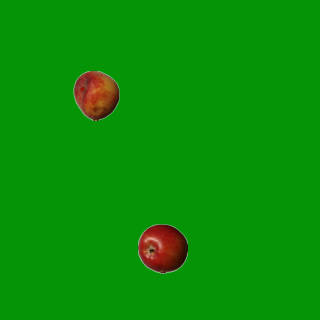Apple Braeburn: (137, 223, 187, 273)
Peach: (71, 70, 121, 120)
